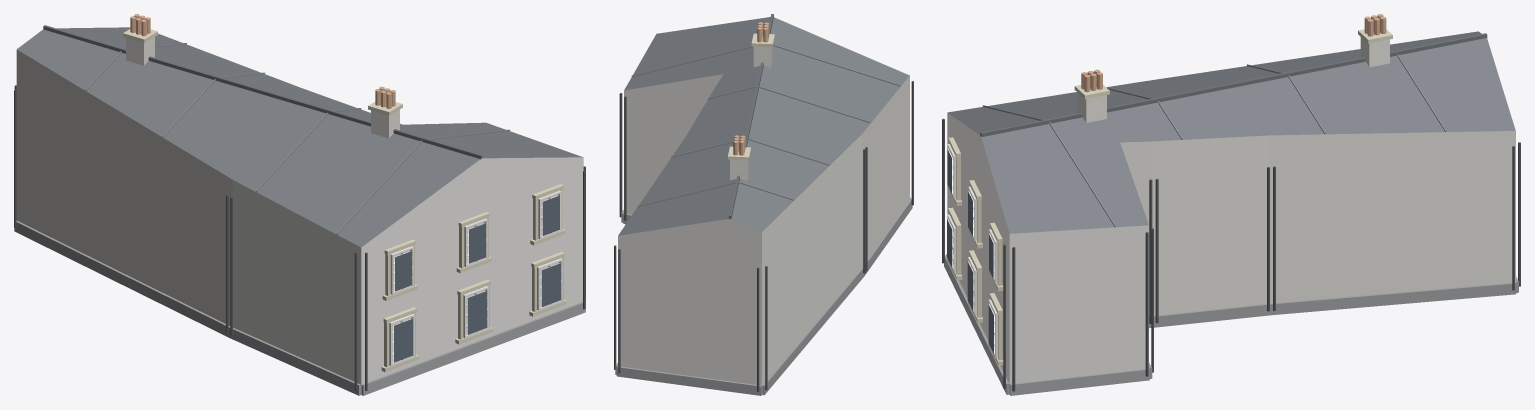
The picture shows the model from 3 angles, left to right: view 1: azimuth 30°, elevation 25°; view 2: azimuth 150°, elevation 25°; view 3: azimuth 270°, elevation 25°; orthographic projection. The views are drawn at different scales.
Visible parts, largest first — view 1: harl, slate, plinth, dress_buff, pipe, frame, slate_dk, chim_render, slate_lt, window_glass_003, pot, window_glass_002 (+4 smaller); view 2: harl, slate, plinth, pipe, slate_lt, chim_render, slate_dk, pot, dress_buff; view 3: harl, slate, plinth, pipe, dress_buff, slate_dk, frame, chim_render, slate_lt, pot.
Part boxes in pixels (box(x1,y1,x2,y2)): harl: box(16, 49, 583, 394); slate: box(17, 27, 582, 247); plinth: box(14, 220, 585, 395); dress_buff: box(123, 29, 566, 372); pipe: box(14, 85, 585, 390); frame: box(389, 190, 562, 365); slate_dk: box(43, 25, 482, 159); chim_render: box(126, 37, 399, 138); slate_lt: box(85, 43, 509, 234); window_glass_003: box(393, 318, 413, 362); pot: box(130, 14, 395, 108); window_glass_002: box(467, 290, 486, 334); harl: box(618, 74, 909, 394); slate: box(618, 17, 909, 235); plinth: box(615, 197, 912, 395); pipe: box(614, 81, 913, 391); slate_lt: box(631, 44, 900, 206); chim_render: box(730, 46, 772, 180); slate_dk: box(728, 14, 773, 219); pot: box(733, 22, 769, 155); dress_buff: box(728, 33, 774, 160); harl: box(947, 113, 1515, 393); slate: box(947, 31, 1515, 233); plinth: box(944, 254, 1518, 395); pipe: box(942, 118, 1520, 391); dress_buff: box(947, 29, 1392, 365); slate_dk: box(980, 33, 1487, 136); frame: box(947, 144, 997, 357); chim_render: box(1077, 37, 1389, 122); slate_lt: box(982, 51, 1446, 227); pot: box(1081, 14, 1386, 92).
Size of the model in its own units: 13.32 by 8.37 by 18.26.
